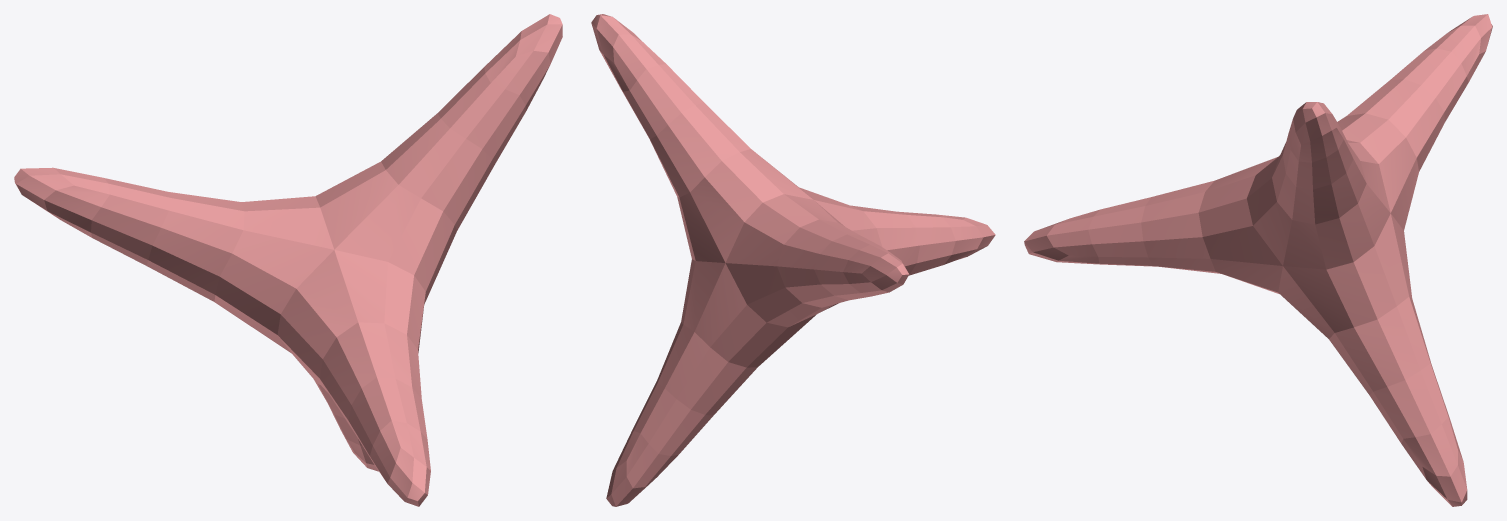
Rendered from web1.glb.
3 views of the same model, side by side, from view 1: azimuth 30°, elevation 25°; view 2: azimuth 150°, elevation 25°; view 3: azimuth 270°, elevation 25° (orthographic). The views are drawn at different scales.
Visible parts, largest first — view 1: web1; view 2: web1; view 3: web1.
Part boxes in pixels (box(x1,y1,x2,y2)): web1: box(14, 14, 562, 506); web1: box(591, 14, 995, 506); web1: box(1024, 14, 1492, 506).
Size of the model in its own units: 5.01 by 5.13 by 4.87.
